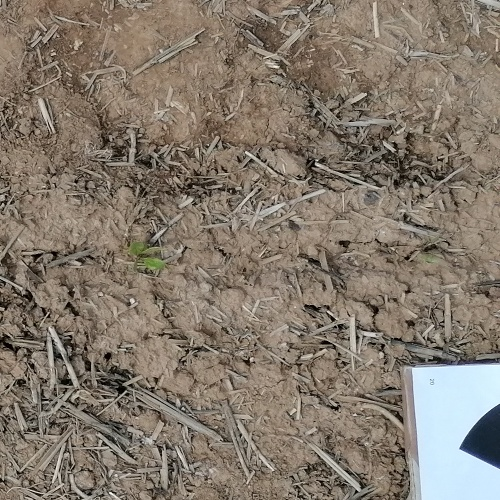beet: (129, 239, 169, 275)
